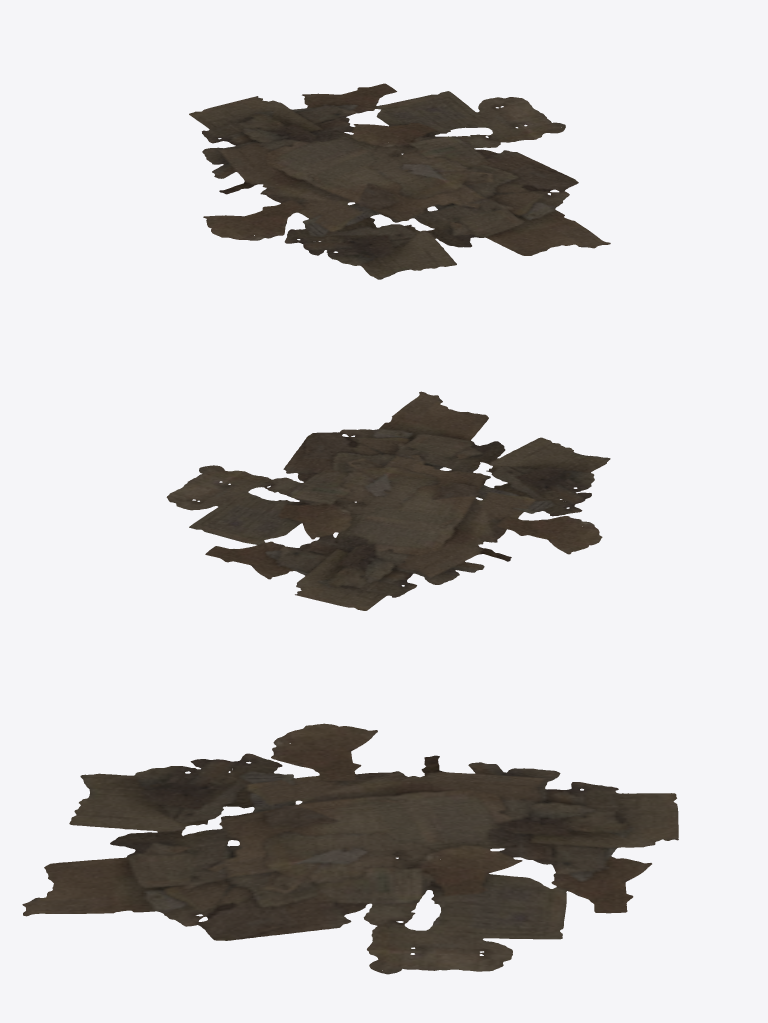
Rendered from trash_6.obj.
3 views of the same model, one above another, from view 1: azimuth 30°, elevation 25°; view 2: azimuth 150°, elevation 25°; view 3: azimuth 270°, elevation 25° (orthographic). The views are drawn at different scales.
Visible parts, largest first — view 1: trash_6; view 2: trash_6; view 3: trash_6.
Boxes of the visible parts, bbox=[...] form: trash_6: bbox=[189, 83, 610, 279]; trash_6: bbox=[166, 391, 610, 610]; trash_6: bbox=[22, 723, 678, 974].
Bounding box in the file's own units: 1 × 0.0147 × 1.
